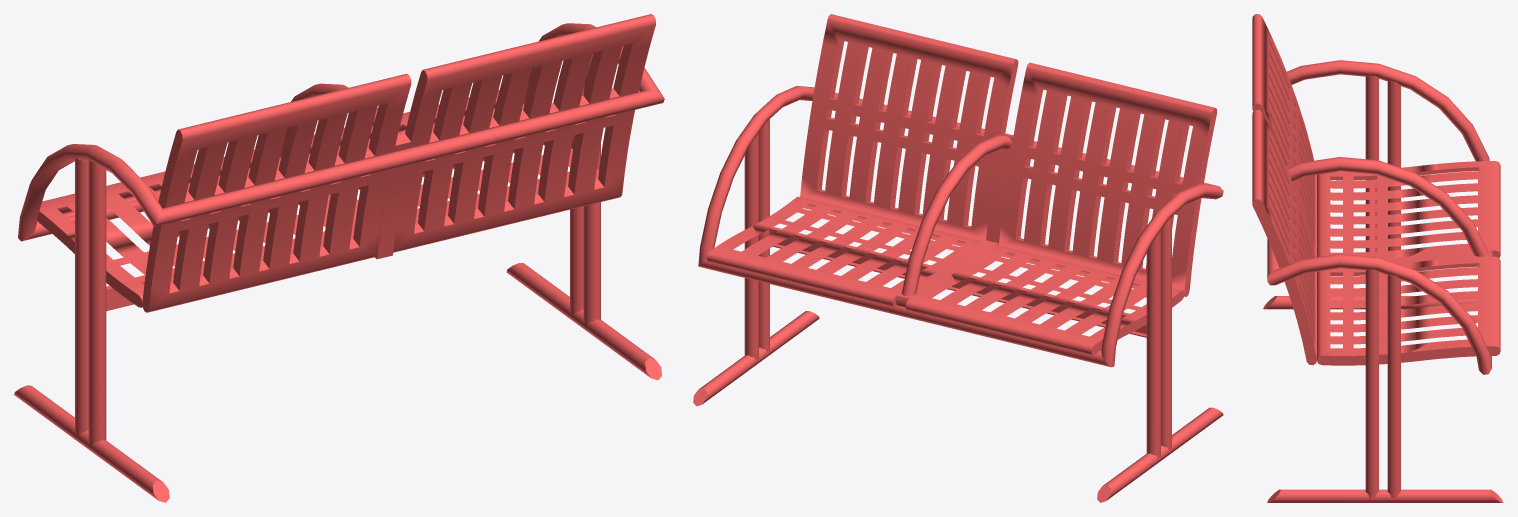
3 renders of one model, left to right at view 1: azimuth 30°, elevation 25°; view 2: azimuth 150°, elevation 25°; view 3: azimuth 270°, elevation 25°, orthographic. The views are drawn at different scales.
Parts seen in each view (by area): view 1: mesh13_mesh13-geometry, mesh37_mesh37-geometry, mesh8_mesh8-geometry, mesh10_mesh10-geometry, mesh45_mesh45-geometry, mesh9_mesh9-geometry, mesh3_mesh3-geometry, mesh42_mesh42-geometry, mesh1_mesh1-geometry; view 2: mesh13_mesh13-geometry, mesh10_mesh10-geometry, mesh9_mesh9-geometry, mesh8_mesh8-geometry, mesh45_mesh45-geometry, mesh5_mesh5-geometry, mesh3_mesh3-geometry, mesh1_mesh1-geometry, mesh44_mesh44-geometry, mesh40_mesh40-geometry, mesh42_mesh42-geometry; view 3: mesh10_mesh10-geometry, mesh13_mesh13-geometry, mesh9_mesh9-geometry, mesh8_mesh8-geometry, mesh1_mesh1-geometry, mesh45_mesh45-geometry, mesh3_mesh3-geometry, mesh44_mesh44-geometry, mesh42_mesh42-geometry.
Boxes of the visible parts, box(x1,y1,x2,y2) form: mesh13_mesh13-geometry: box(142, 14, 655, 312); mesh37_mesh37-geometry: box(154, 90, 664, 226); mesh8_mesh8-geometry: box(88, 53, 600, 446); mesh10_mesh10-geometry: box(37, 90, 598, 307); mesh45_mesh45-geometry: box(14, 263, 661, 502); mesh9_mesh9-geometry: box(75, 88, 583, 436); mesh3_mesh3-geometry: box(18, 144, 162, 241); mesh42_mesh42-geometry: box(278, 133, 410, 259); mesh1_mesh1-geometry: box(523, 23, 664, 104); mesh13_mesh13-geometry: box(800, 14, 1217, 296); mesh10_mesh10-geometry: box(707, 196, 1184, 355); mesh9_mesh9-geometry: box(744, 133, 1160, 458); mesh8_mesh8-geometry: box(759, 119, 1171, 450); mesh45_mesh45-geometry: box(693, 311, 1223, 502); mesh5_mesh5-geometry: box(698, 259, 1110, 367); mesh3_mesh3-geometry: box(1101, 184, 1223, 367); mesh1_mesh1-geometry: box(698, 86, 814, 265); mesh44_mesh44-geometry: box(902, 135, 1011, 296); mesh40_mesh40-geometry: box(769, 227, 1146, 337); mesh42_mesh42-geometry: box(896, 133, 1013, 307); mesh10_mesh10-geometry: box(1317, 161, 1500, 365); mesh13_mesh13-geometry: box(1252, 14, 1316, 365); mesh9_mesh9-geometry: box(1387, 81, 1400, 497); mesh8_mesh8-geometry: box(1365, 75, 1378, 497); mesh1_mesh1-geometry: box(1267, 254, 1491, 374); mesh45_mesh45-geometry: box(1263, 296, 1503, 502); mesh3_mesh3-geometry: box(1287, 60, 1489, 161); mesh44_mesh44-geometry: box(1288, 157, 1488, 256); mesh42_mesh42-geometry: box(1286, 165, 1494, 275).
Bounding box in the file's own units: 0.7516 × 0.5248 × 0.3997.
